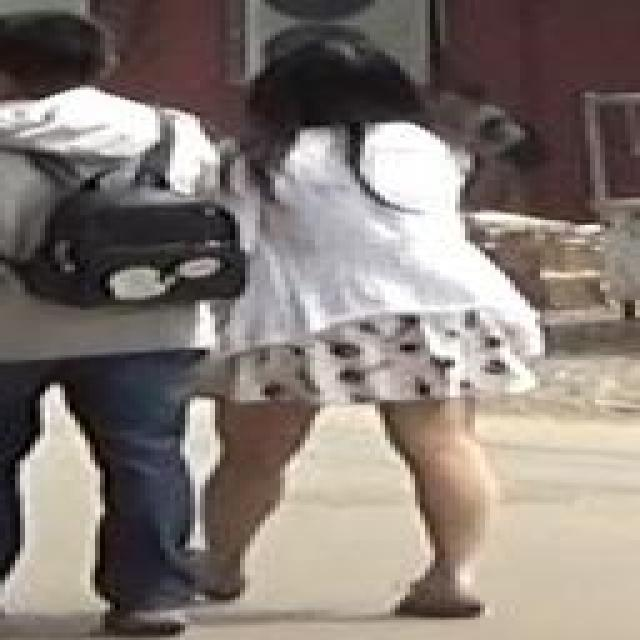adult: (184, 42, 534, 621), (0, 26, 210, 632)
